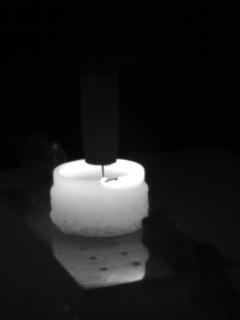tip_wire_left: (85, 162, 106, 181)
tip_wire_right: (102, 161, 116, 181)
